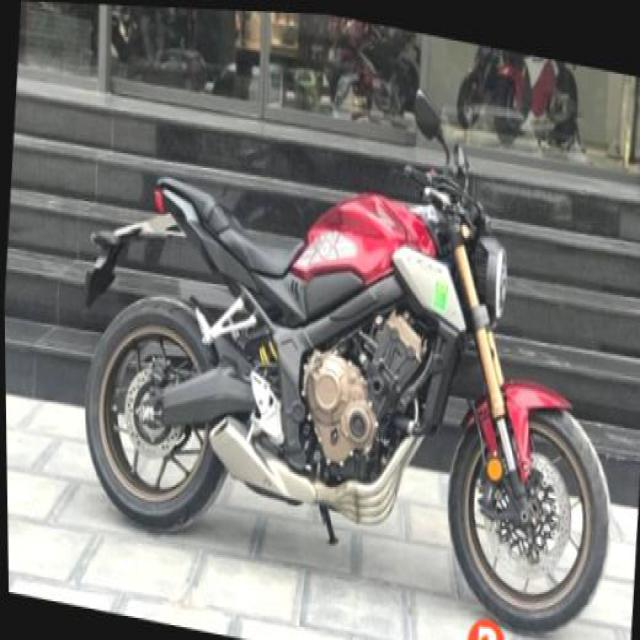CB650R: (62, 131, 632, 638)
